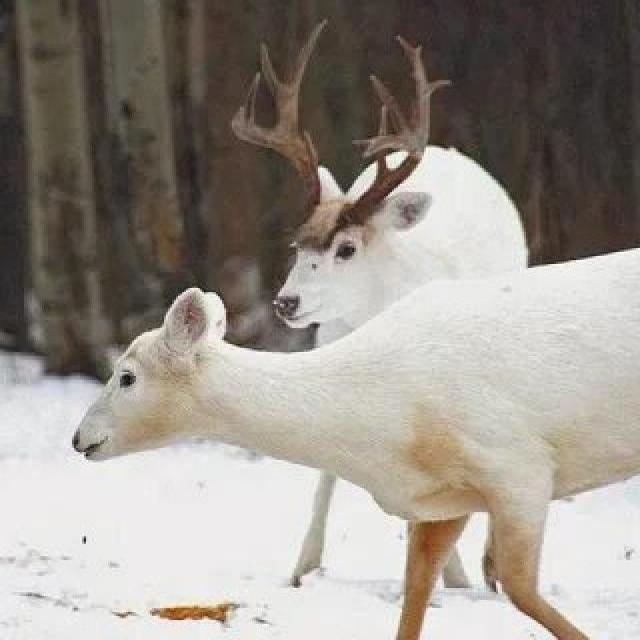deer: (81, 188, 640, 605), (223, 118, 550, 430)
